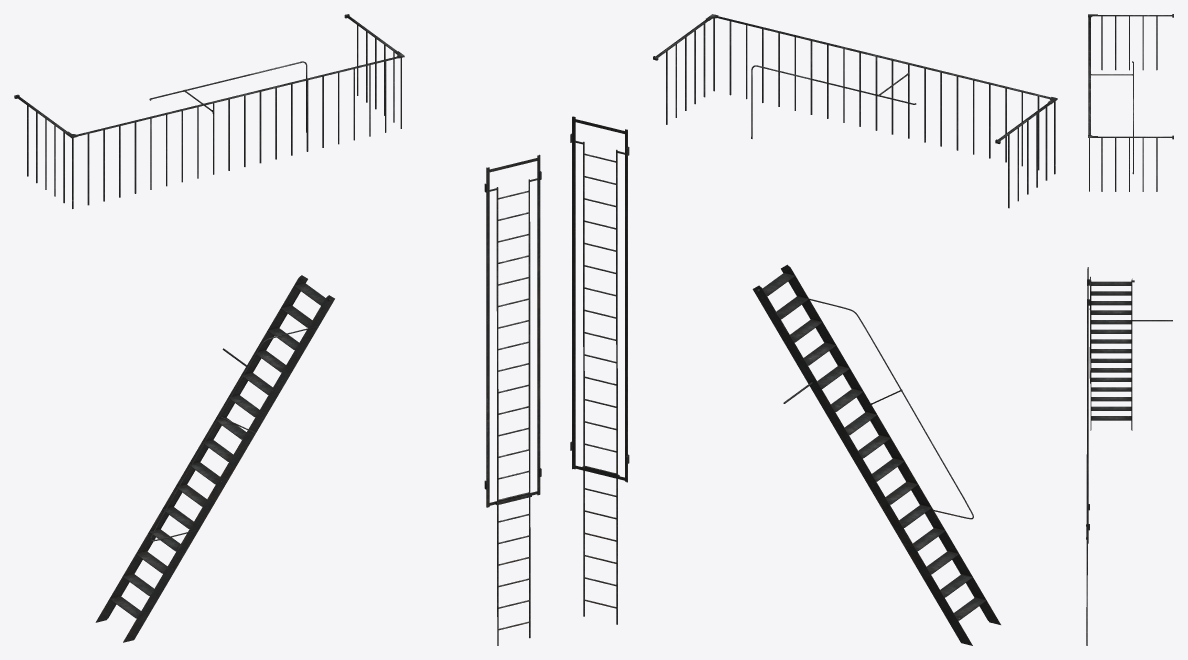
Rendered from fire-escape-modular.glb.
3 views of the same model, side by side, from view 1: azimuth 30°, elevation 25°; view 2: azimuth 150°, elevation 25°; view 3: azimuth 270°, elevation 25° (orthographic). The views are drawn at different scales.
Visible parts, largest first — view 1: modular_fire_escape_stairs, modular_fire_escape_ladder_bottom, modular_fire_escape_railing_middle; view 2: modular_fire_escape_stairs, modular_fire_escape_railing_middle, modular_fire_escape_ladder_bottom; view 3: modular_fire_escape_stairs, modular_fire_escape_railing_middle, modular_fire_escape_ladder_bottom, modular_fire_escape_platform_railing.
Part boxes in pixels (bbox=[...]): modular_fire_escape_stairs: bbox=[95, 275, 334, 642]; modular_fire_escape_ladder_bottom: bbox=[484, 154, 541, 645]; modular_fire_escape_railing_middle: bbox=[14, 14, 404, 208]; modular_fire_escape_stairs: bbox=[752, 264, 1000, 645]; modular_fire_escape_railing_middle: bbox=[653, 14, 1057, 208]; modular_fire_escape_ladder_bottom: bbox=[570, 116, 629, 624]; modular_fire_escape_stairs: bbox=[1089, 276, 1172, 430]; modular_fire_escape_railing_middle: bbox=[1088, 14, 1173, 191]; modular_fire_escape_ladder_bottom: bbox=[1086, 267, 1089, 645]; modular_fire_escape_platform_railing: bbox=[1091, 61, 1133, 174].
Bounding box in the file's own units: 6.62 × 8.25 × 1.42.
Materials: 1 (1 with a texture image).
